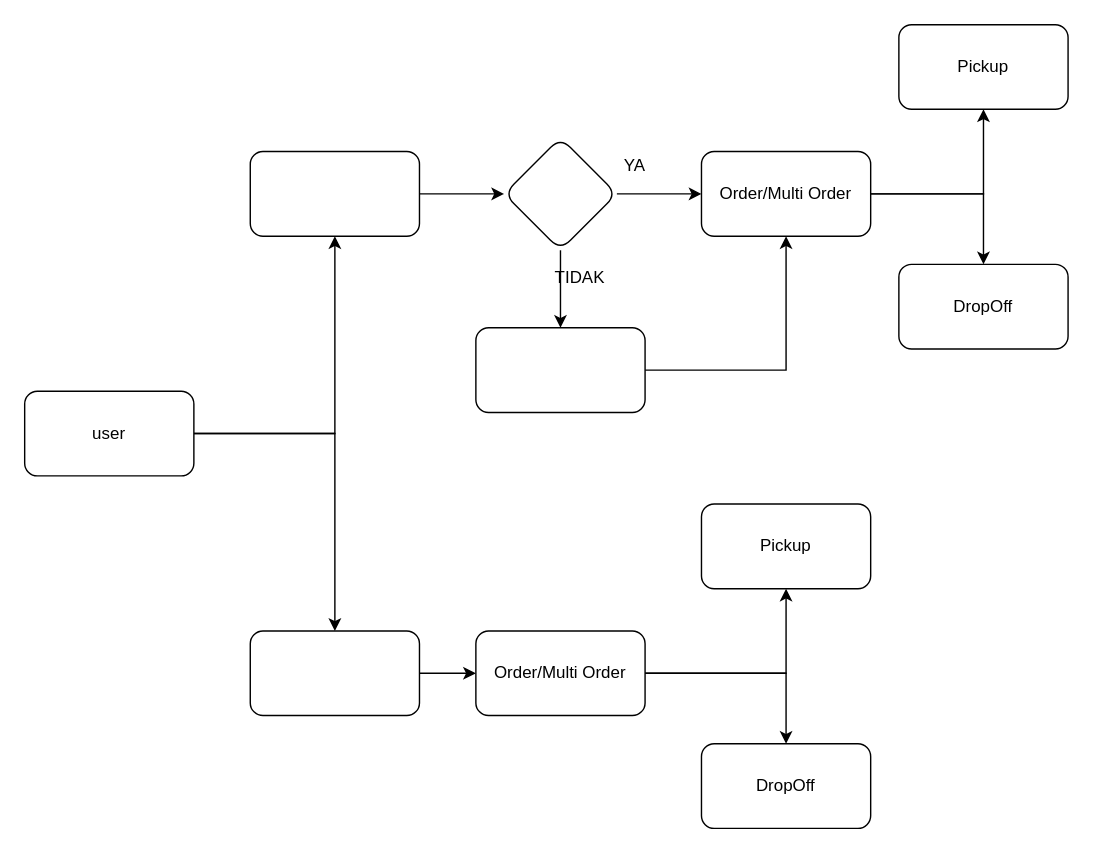
Some shapes in this 1093 by 853 pixel diagram are drawn without their labels. Here are the shapes that lost their labels. From the top down, the centre of each, then its label:
(x=334, y=193): COD
(x=560, y=193): cek rekening
(x=559, y=369): create rekening giro
(x=334, y=673): NON COD
